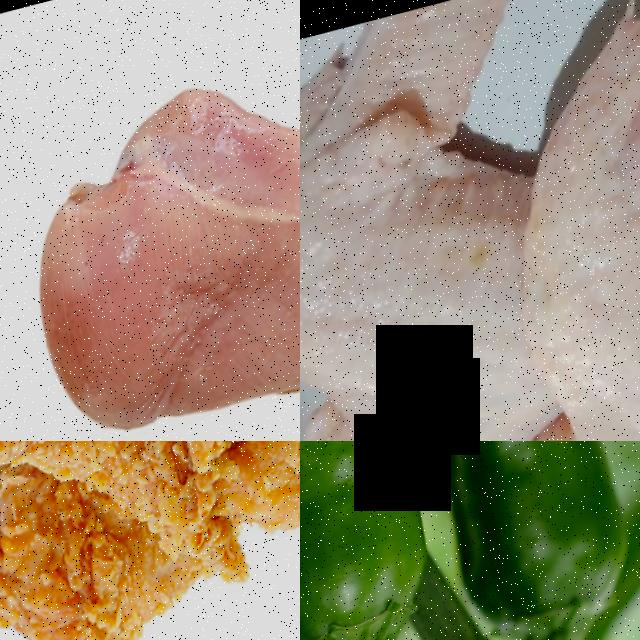chicken breast: (0, 3, 300, 441)
chicken wing: (300, 0, 631, 441), (425, 0, 640, 441)
chilli: (356, 441, 640, 640), (300, 441, 500, 640)
